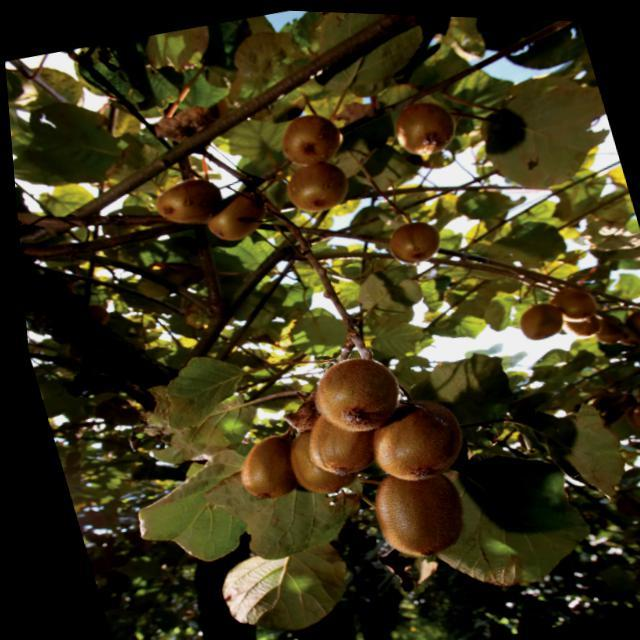kiwi: (354, 453, 470, 565), (347, 388, 468, 489), (288, 387, 398, 482), (296, 346, 405, 440), (275, 418, 361, 500), (221, 427, 309, 505), (386, 94, 463, 160), (271, 106, 351, 169), (278, 155, 356, 216), (146, 172, 228, 230), (196, 185, 272, 247), (381, 214, 444, 267), (510, 296, 564, 341), (544, 279, 598, 324)
